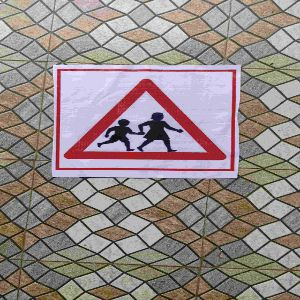schools: (57, 72, 234, 171)
